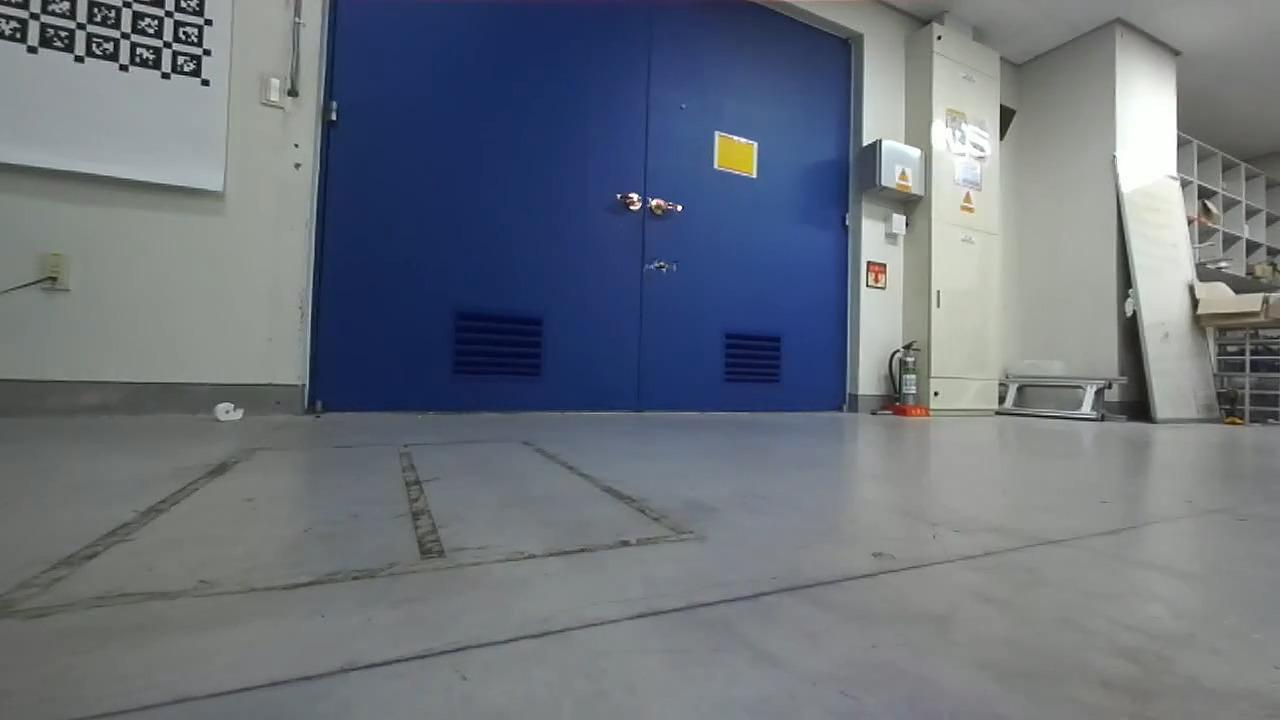crazyflie: (638, 256, 686, 277)
